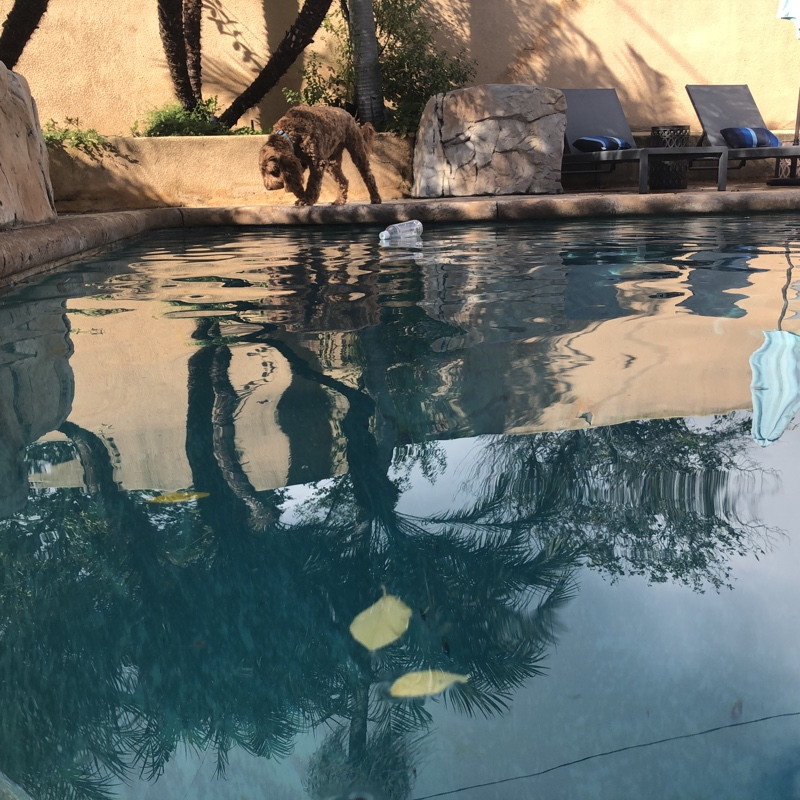Plastic Bottle: (379, 220, 424, 241)
